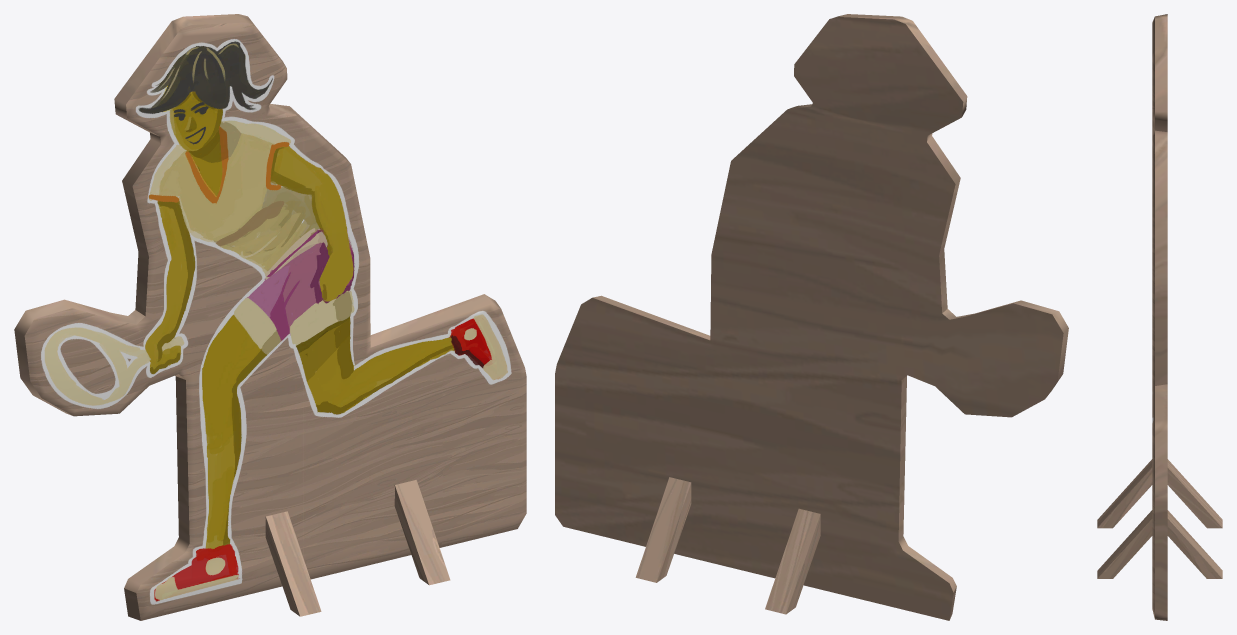
The model's file is standee paddle.glb.
3 views of the same model, side by side, from view 1: azimuth 30°, elevation 25°; view 2: azimuth 150°, elevation 25°; view 3: azimuth 270°, elevation 25° (orthographic). The views are drawn at different scales.
Visible parts, largest first — view 1: Paddleball_Practice_cutout_LOD0; view 2: Paddleball_Practice_cutout_LOD0; view 3: Paddleball_Practice_cutout_LOD0.
Boxes of the visible parts, x1,y1,x2,y2 form: Paddleball_Practice_cutout_LOD0: (14, 14, 526, 620); Paddleball_Practice_cutout_LOD0: (555, 14, 1068, 620); Paddleball_Practice_cutout_LOD0: (1097, 14, 1222, 620).
Size of the model in its own units: 1.68 by 1.86 by 0.4459.
1 material, 1 textured.
